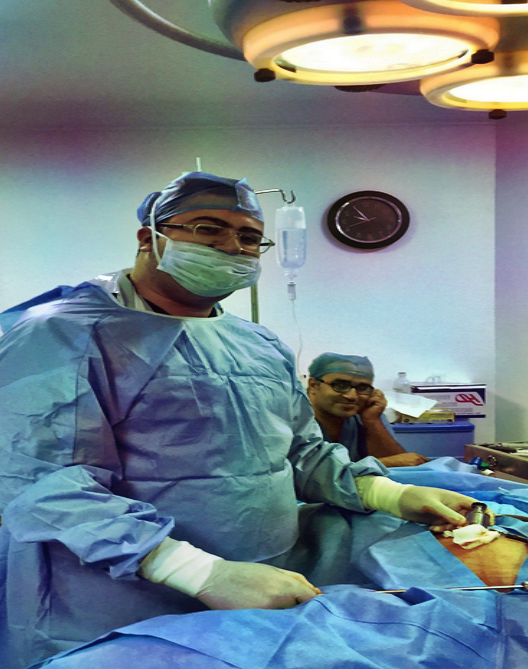mask_weared_incorrect: (135, 176, 282, 302)
